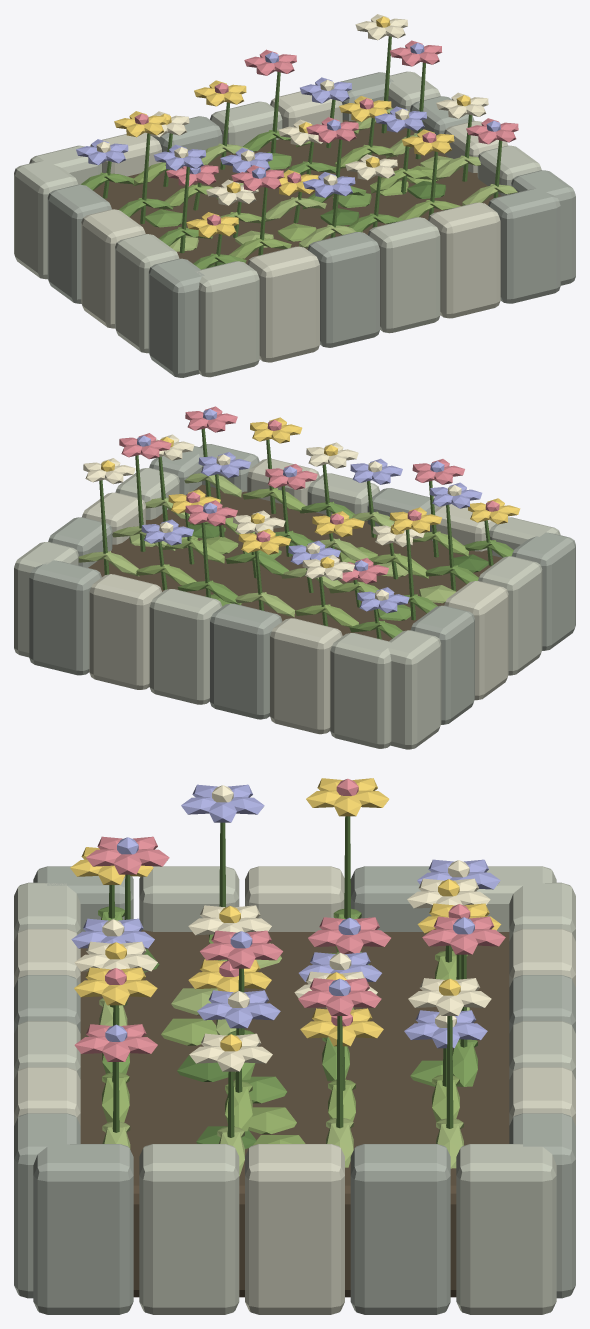
File: flowerbed.glb
3 views of the same model, one above another, from view 1: azimuth 30°, elevation 25°; view 2: azimuth 150°, elevation 25°; view 3: azimuth 270°, elevation 25° (orthographic). The views are drawn at different scales.
Visible parts, largest first — view 1: flowerbed_HVS_limestone0, flowerbed_HVS_limestone1, flowerbed_HVS_limestone2, flowerbed_HVS_soil, flowerbed_HVS_leaf0, flowerbed_HVS_petal1, flowerbed_HVS_petal2, flowerbed_HVS_petal0, flowerbed_HVS_petal3, flowerbed_HVS_leaf1, flowerbed_HVS_leaf2, flowerbed_HVS_leaf3; view 2: flowerbed_HVS_limestone1, flowerbed_HVS_limestone0, flowerbed_HVS_limestone2, flowerbed_HVS_soil, flowerbed_HVS_leaf0, flowerbed_HVS_petal1, flowerbed_HVS_petal2, flowerbed_HVS_petal0, flowerbed_HVS_petal3, flowerbed_HVS_leaf2, flowerbed_HVS_leaf3, flowerbed_HVS_leaf1; view 3: flowerbed_HVS_limestone0, flowerbed_HVS_limestone1, flowerbed_HVS_soil, flowerbed_HVS_limestone2, flowerbed_HVS_petal1, flowerbed_HVS_petal2, flowerbed_HVS_petal0, flowerbed_HVS_petal3, flowerbed_HVS_leaf0, flowerbed_HVS_leaf2, flowerbed_HVS_leaf3, flowerbed_HVS_leaf1.
Boxes of the visible parts, x1=… form: flowerbed_HVS_limestone0: x1=47, y1=72, x2=575, y2=377; flowerbed_HVS_limestone1: x1=14, y1=71, x2=541, y2=377; flowerbed_HVS_limestone2: x1=81, y1=91, x2=507, y2=362; flowerbed_HVS_soil: x1=93, y1=120, x2=501, y2=264; flowerbed_HVS_leaf0: x1=102, y1=36, x2=502, y2=267; flowerbed_HVS_petal1: x1=134, y1=40, x2=518, y2=225; flowerbed_HVS_petal2: x1=76, y1=43, x2=500, y2=197; flowerbed_HVS_petal0: x1=114, y1=16, x2=470, y2=238; flowerbed_HVS_petal3: x1=96, y1=14, x2=488, y2=205; flowerbed_HVS_leaf1: x1=80, y1=130, x2=402, y2=269; flowerbed_HVS_leaf2: x1=133, y1=129, x2=460, y2=258; flowerbed_HVS_leaf3: x1=169, y1=108, x2=517, y2=251; flowerbed_HVS_limestone1: x1=14, y1=468, x2=560, y2=749; flowerbed_HVS_limestone0: x1=29, y1=444, x2=575, y2=724; flowerbed_HVS_limestone2: x1=82, y1=458, x2=508, y2=734; flowerbed_HVS_soil: x1=88, y1=484, x2=502, y2=641; flowerbed_HVS_leaf0: x1=99, y1=428, x2=493, y2=639; flowerbed_HVS_petal1: x1=119, y1=406, x2=499, y2=583; flowerbed_HVS_petal2: x1=137, y1=409, x2=482, y2=613; flowerbed_HVS_petal0: x1=101, y1=417, x2=520, y2=568; flowerbed_HVS_petal3: x1=83, y1=434, x2=461, y2=600; flowerbed_HVS_leaf2: x1=135, y1=488, x2=468, y2=627; flowerbed_HVS_leaf3: x1=78, y1=473, x2=456, y2=617; flowerbed_HVS_leaf1: x1=177, y1=501, x2=513, y2=638; flowerbed_HVS_limestone0: x1=14, y1=866, x2=575, y2=1314; flowerbed_HVS_limestone1: x1=14, y1=866, x2=575, y2=1314; flowerbed_HVS_soil: x1=80, y1=929, x2=509, y2=1297; flowerbed_HVS_limestone2: x1=14, y1=866, x2=575, y2=1314; flowerbed_HVS_petal1: x1=74, y1=778, x2=505, y2=1061; flowerbed_HVS_petal2: x1=71, y1=784, x2=500, y2=1048; flowerbed_HVS_petal0: x1=70, y1=778, x2=501, y2=1051; flowerbed_HVS_petal3: x1=74, y1=785, x2=491, y2=1071; flowerbed_HVS_leaf0: x1=108, y1=816, x2=467, y2=1148; flowerbed_HVS_leaf2: x1=102, y1=951, x2=459, y2=1145; flowerbed_HVS_leaf3: x1=99, y1=943, x2=470, y2=1176; flowerbed_HVS_leaf1: x1=98, y1=906, x2=477, y2=1103.
Bounding box in the file's own units: 1.31 × 0.5813 × 1.01.
